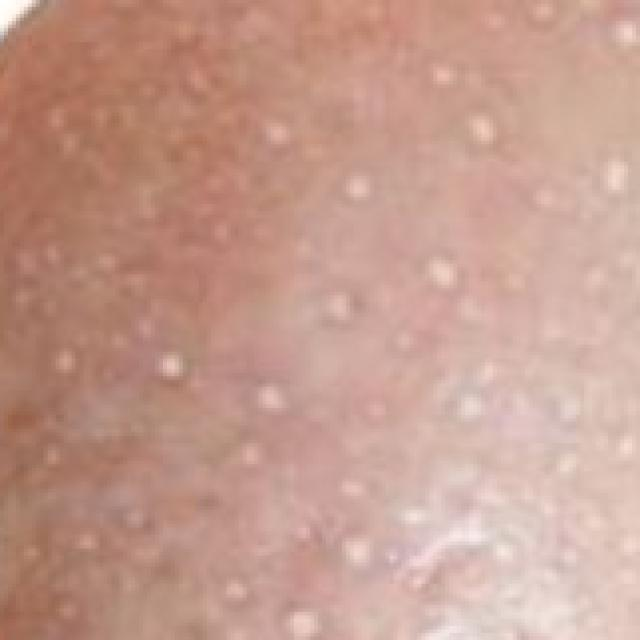whitehead: (0, 0, 639, 633)
